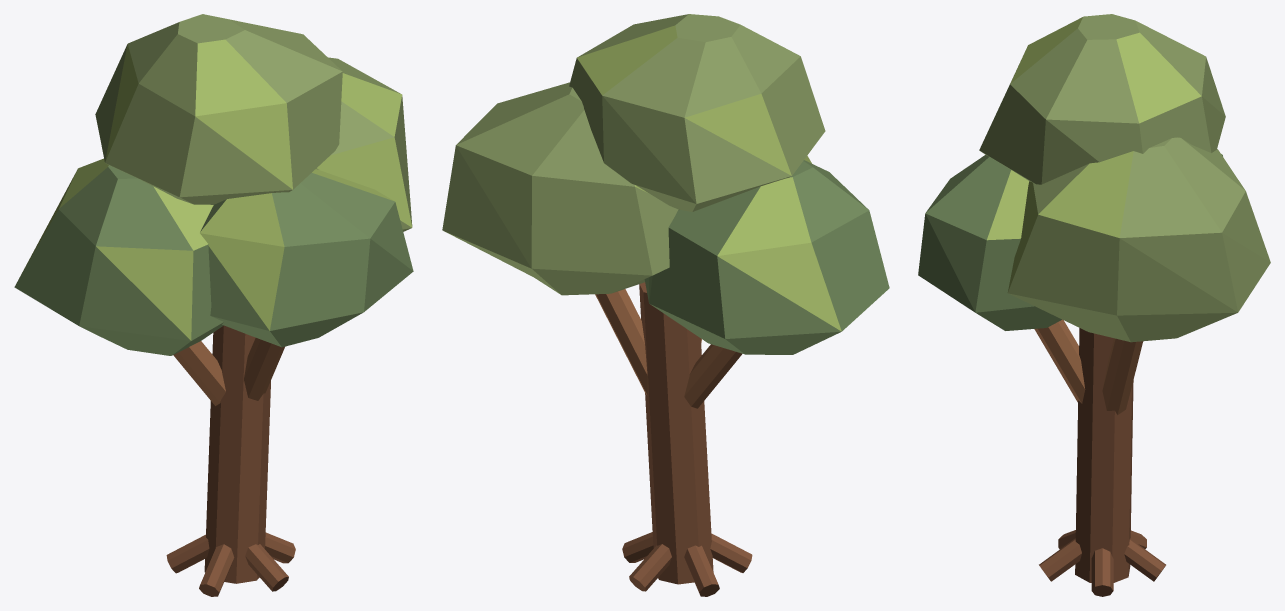
File: tree_oak.glb
The picture shows the model from 3 angles, left to right: view 1: azimuth 30°, elevation 25°; view 2: azimuth 150°, elevation 25°; view 3: azimuth 270°, elevation 25°; orthographic projection. The views are drawn at different scales.
Visible parts, largest first — view 1: tree_oak; view 2: tree_oak; view 3: tree_oak.
Boxes of the visible parts, x1,y1,x2,y2 form: tree_oak: (14,14,413,596); tree_oak: (442,14,889,596); tree_oak: (918,14,1270,596).
Size of the model in its own units: 1.69 by 2.44 by 1.46.
